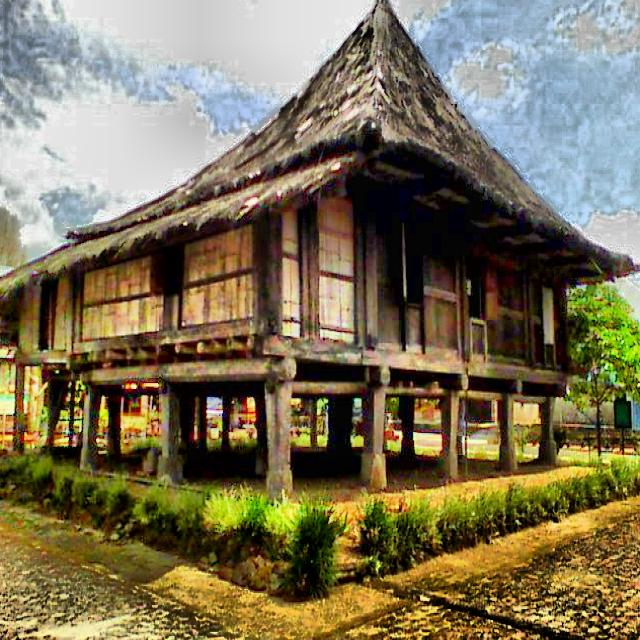column: (255, 382, 292, 490), (363, 387, 386, 486), (159, 384, 182, 481), (81, 387, 100, 469), (440, 389, 457, 477), (500, 395, 517, 468), (538, 396, 555, 462), (108, 388, 120, 468), (400, 397, 415, 454), (197, 397, 207, 447), (310, 397, 317, 447), (222, 396, 229, 446)
roof: (0, 0, 640, 299)
wall: (13, 170, 568, 383)
window: (150, 248, 184, 293), (469, 271, 498, 320)
